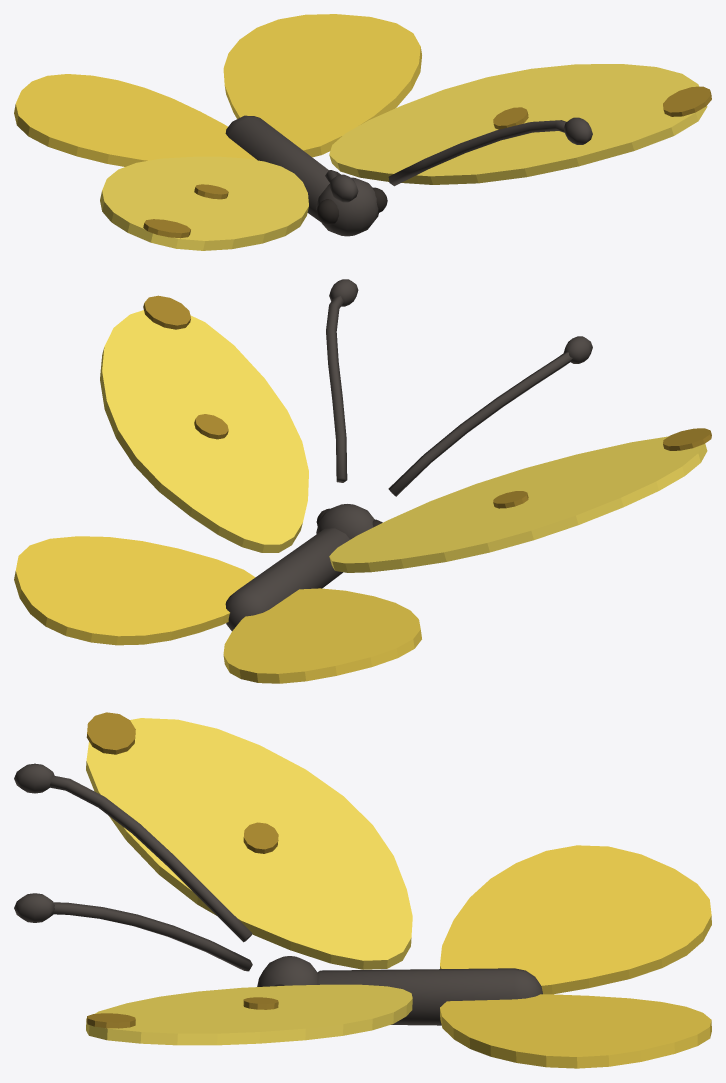
File: bug-yellow-butterfly.glb
3 renders of one model, top to bottom at view 1: azimuth 30°, elevation 25°; view 2: azimuth 150°, elevation 25°; view 3: azimuth 270°, elevation 25°, orthographic. The views are drawn at different scales.
Parts seen in each view (by area): view 1: bug; view 2: bug; view 3: bug.
Boxes of the visible parts, bbox=[...] form: bug: bbox=[14, 14, 711, 250]; bug: bbox=[14, 279, 711, 683]; bug: bbox=[14, 712, 711, 1068].
Bounding box in the file's own units: 0.252 × 0.072 × 0.2347.
